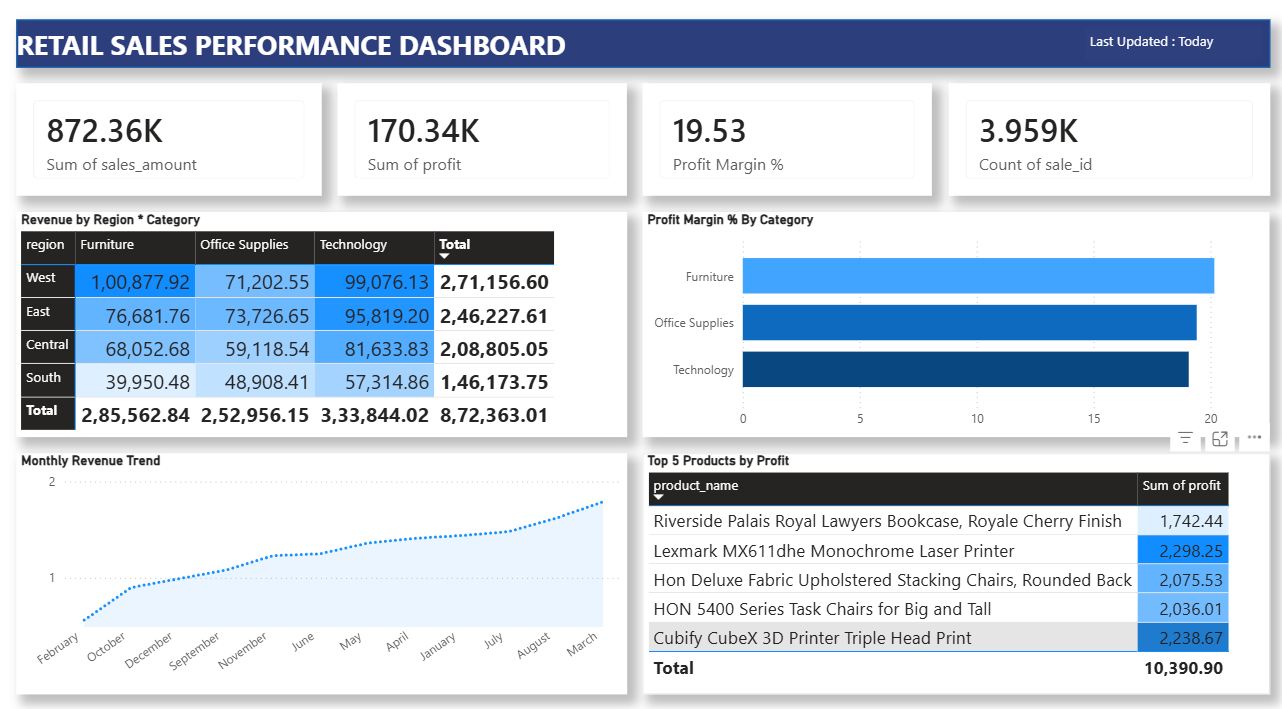

The page's visual inventory and layout, read from the dashboard file:
{"tool":"powerbi","page":{"name":"Page 1","canvas":[1280,720],"ordinal":0},"visuals":[{"type":"shape","box":[16,32,1248,48],"z":0},{"type":"cardVisual","fields":{"Data":["Sum(public fact_sales.sales_amount)"]},"box":[16,96,304,112],"z":1000},{"type":"cardVisual","fields":{"Data":["Sum(public fact_sales.profit)"]},"box":[336,96,288,112],"z":2000},{"type":"cardVisual","fields":{"Data":["public fact_sales.Profit Margin %"]},"box":[640,96,288,112],"z":3000},{"type":"cardVisual","fields":{"Data":["CountNonNull(public fact_sales.sale_id)"]},"box":[944,96,320,112],"z":4000},{"type":"pivotTable","title":"Revenue by Region * Category","fields":{"Rows":["public dim_region.region"],"Columns":["public dim_product.category"],"Values":["Sum(public fact_sales.sales_amount)"]},"box":[16,224,608,224],"z":5000},{"type":"clusteredBarChart","title":"Profit Margin  % By Category","fields":{"Category":["public dim_product.category"],"Y":["public fact_sales.Profit Margin %"]},"box":[640,224,624,224],"z":6000},{"type":"lineChart","title":"Monthly Revenue Trend","fields":{"Category":["public dim_date.month_name"],"Y":["Min(public fact_sales.sales_amount)"]},"box":[16,464,608,240],"z":7000},{"type":"textbox","box":[1080,40,176,32],"z":7500},{"type":"tableEx","title":"Top  5 Products  by Profit","fields":{"Values":["public dim_product.product_name","Sum(public fact_sales.profit)"]},"box":[640,464,624,240],"z":8000}]}

Visuals, with their boxes in screenshot pixels (x1, y1, x2, y2), scaled from the page's 1280x720 canvas onto the 1282x709 screenshot:
shape: (16,32,1266,79)
cardVisual - Sum(public fact_sales.sales_amount): (16,95,320,205)
cardVisual - Sum(public fact_sales.profit): (337,95,625,205)
cardVisual - public fact_sales.Profit Margin %: (641,95,929,205)
cardVisual - CountNonNull(public fact_sales.sale_id): (945,95,1266,205)
"Revenue by Region * Category" pivotTable: (16,221,625,441)
"Profit Margin  % By Category" clusteredBarChart: (641,221,1266,441)
"Monthly Revenue Trend" lineChart: (16,457,625,693)
textbox: (1082,39,1258,71)
"Top  5 Products  by Profit" tableEx: (641,457,1266,693)
